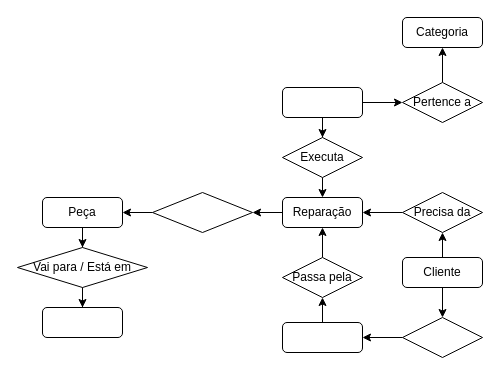
This 500x375 diagram has some shape labels left out. The shapes that lost their labels are listed below. From the top down, each one's centre as x and y in pixels, then its label:
(x=322, y=102): Funcionario
(x=202, y=212): Utiliza/Requer
(x=82, y=322): Armazem
(x=322, y=337): Veiculo
(x=442, y=337): Possui
